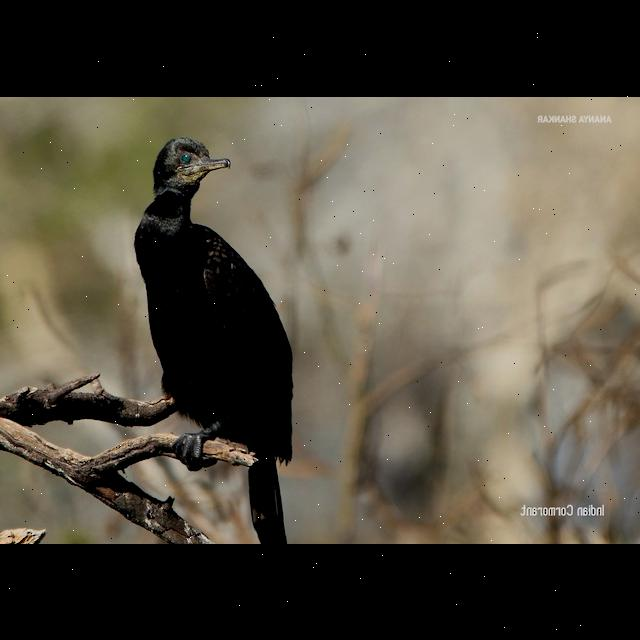cormorant: (136, 136, 292, 542)
